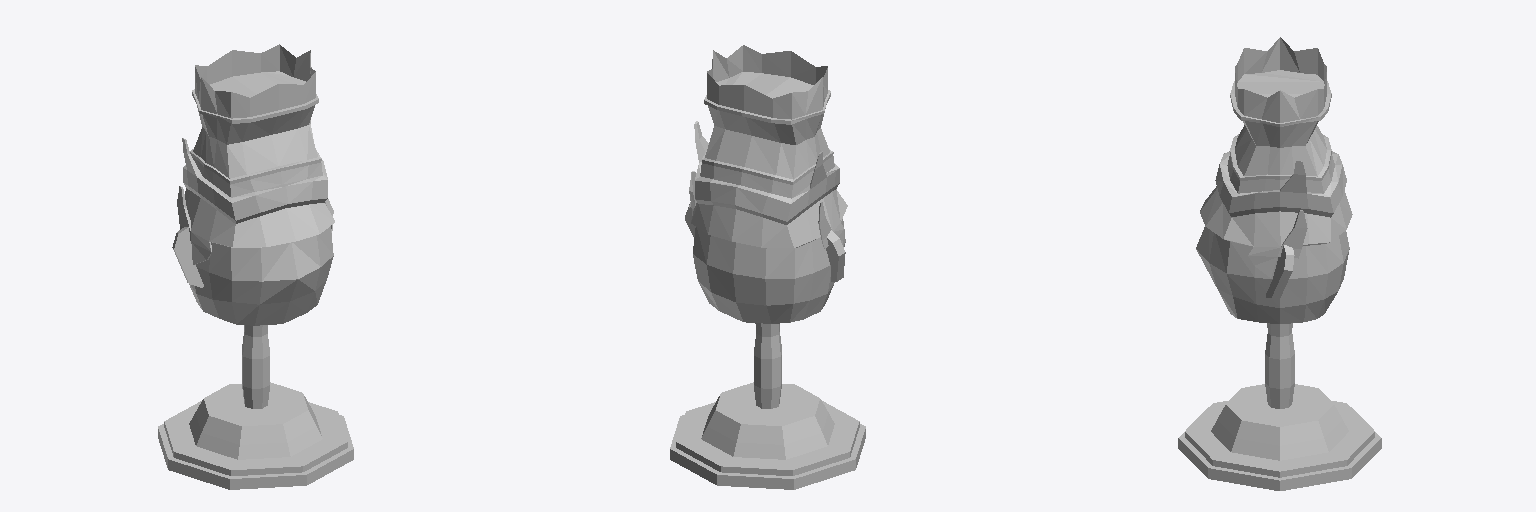
Rendered from old father.obj.
The picture shows the model from 3 angles: view 1: azimuth 30°, elevation 25°; view 2: azimuth 150°, elevation 25°; view 3: azimuth 270°, elevation 25°; orthographic projection.
Visible parts, largest first — view 1: Cube.001, Circle, Cube, Cylinder; view 2: Cube.001, Circle, Cube, Cylinder; view 3: Cube.001, Circle, Cube, Cylinder.
Part boxes in pixels (left/top/right/bottom): Cube.001: left=177, top=44, right=334, bottom=264; Circle: left=158, top=325, right=353, bottom=489; Cube: left=189, top=226, right=333, bottom=325; Cylinder: left=172, top=199, right=333, bottom=287; Cube.001: left=689, top=45, right=847, bottom=248; Circle: left=670, top=323, right=865, bottom=489; Cube: left=693, top=219, right=845, bottom=323; Cylinder: left=685, top=202, right=845, bottom=281; Cube.001: left=1200, top=37, right=1352, bottom=277; Circle: left=1178, top=323, right=1381, bottom=490; Cube: left=1196, top=227, right=1349, bottom=323; Cylinder: left=1266, top=245, right=1294, bottom=298.
Bounding box in the file's own units: 2 × 4.18 × 2.